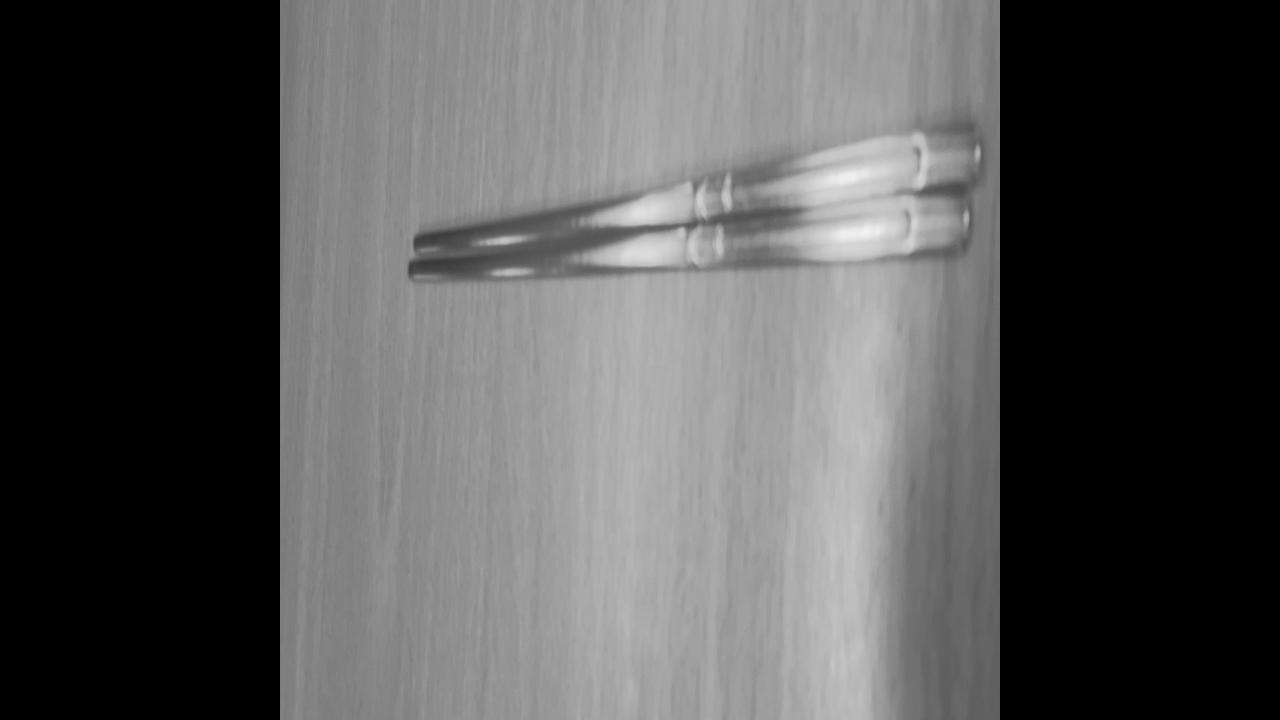chopstick: (411, 122, 978, 280)
